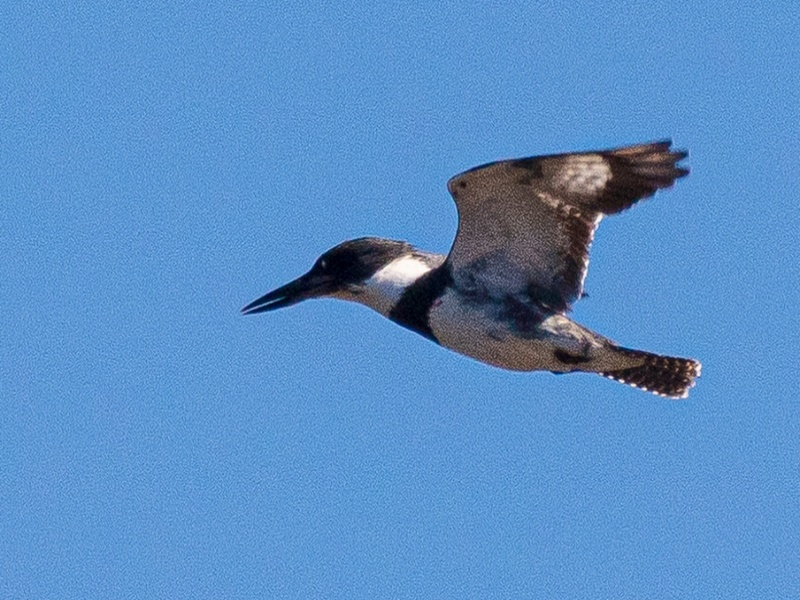kingfisher: (240, 137, 705, 406)
